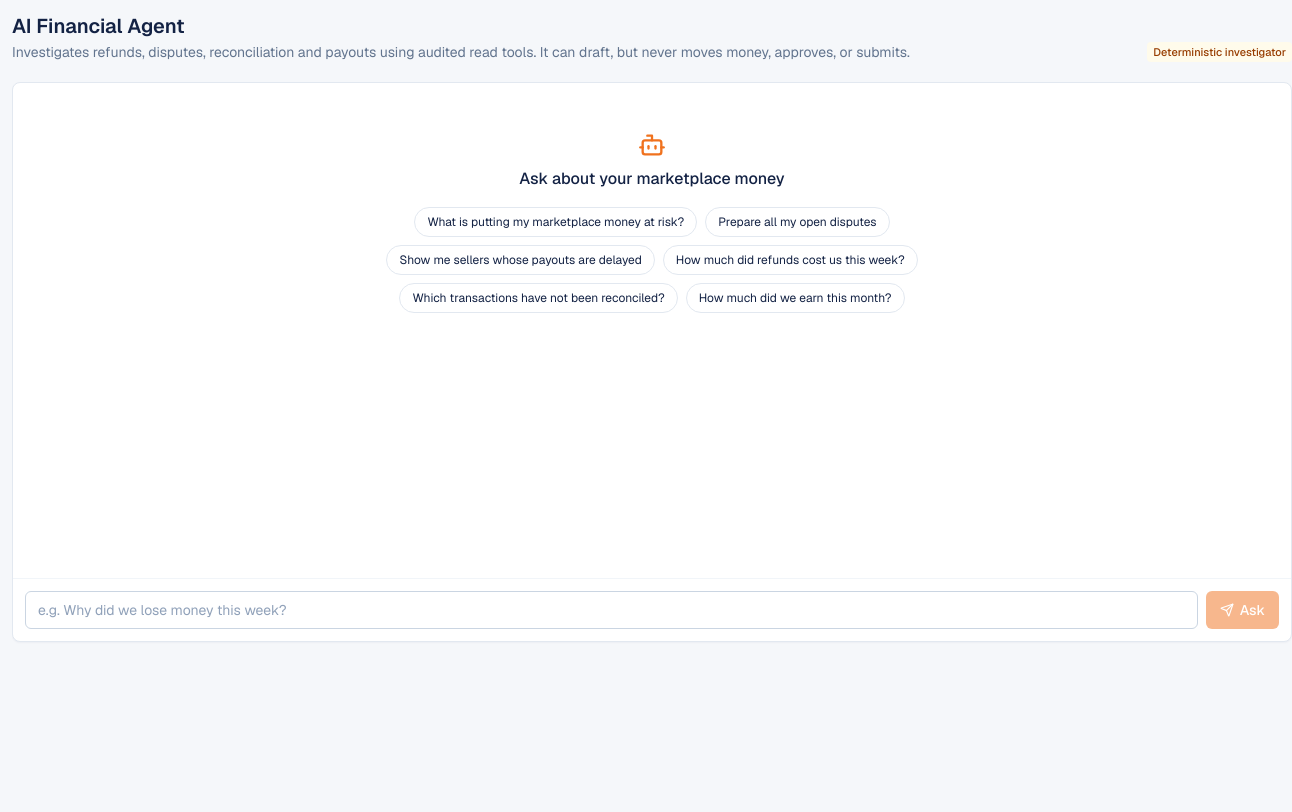
Test: AI conversation › does not crash when the browser's scrollIntoView returns a value (regression: effect must not return it)
Type "hi" into the field named "Ask the agent" at coordinates (611, 610), box [25,591,1198,629]
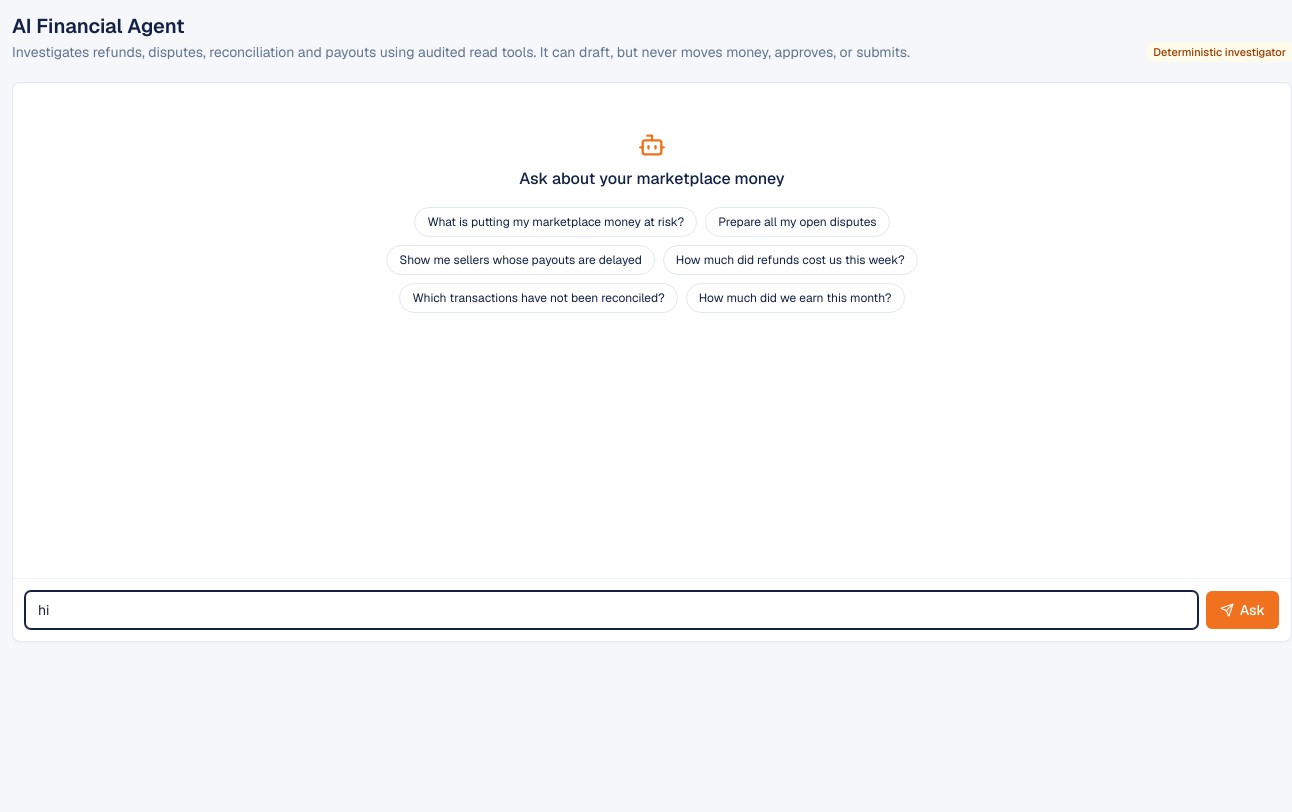
Click the button "Ask" at coordinates (1242, 610), box [1206,591,1279,629]
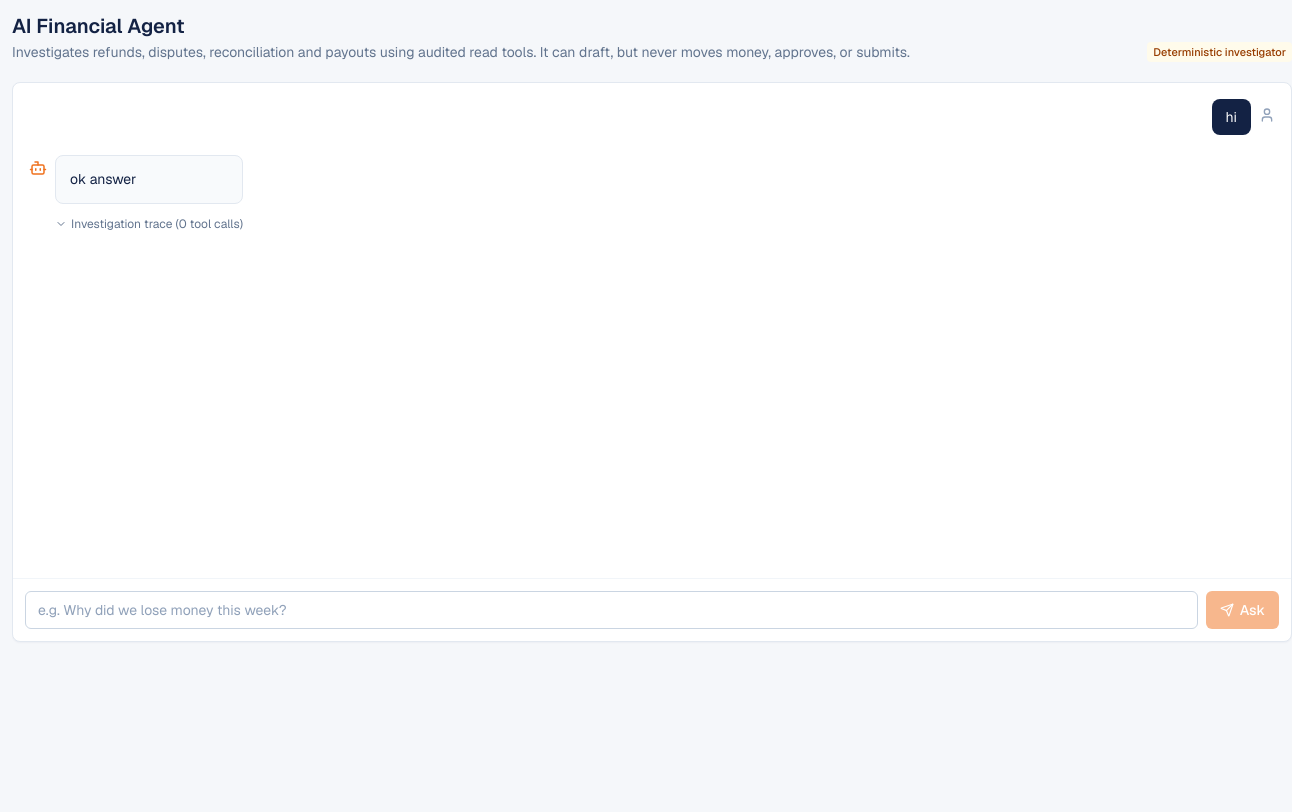
Expected: the text "ok answer" is shown, [70,170,136,188]
